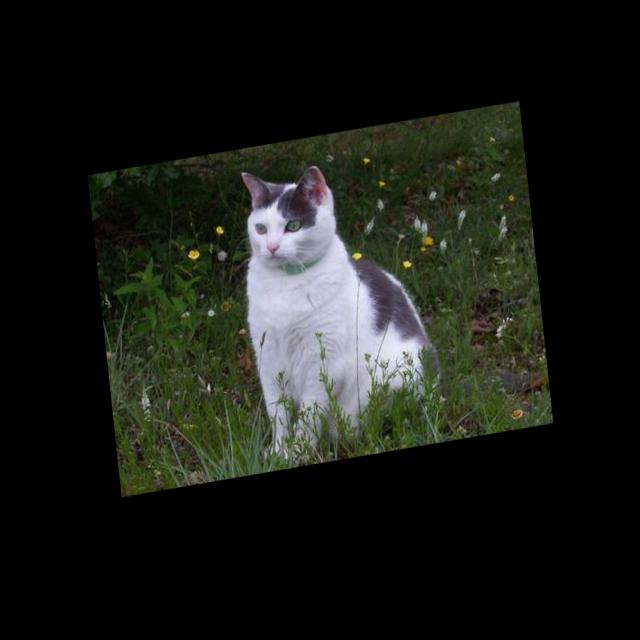animals: (243, 163, 330, 259)
